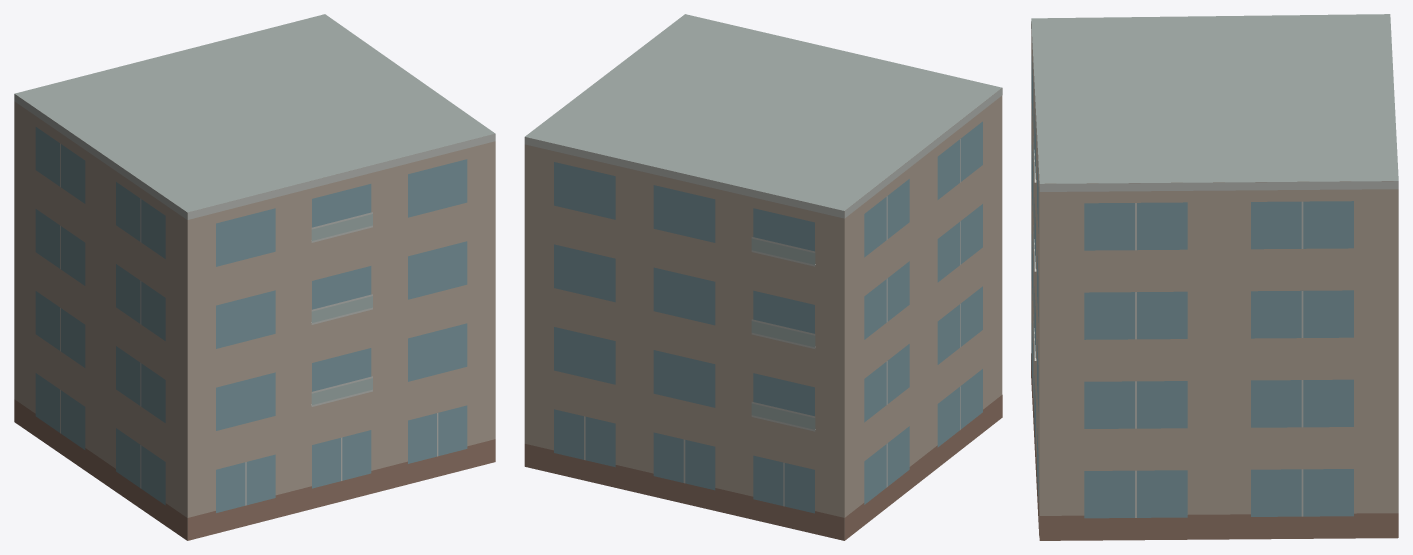
Rendered from survey-upis-32610860.glb.
3 renders of one model, left to right at view 1: azimuth 30°, elevation 25°; view 2: azimuth 150°, elevation 25°; view 3: azimuth 270°, elevation 25°, orthographic. The views are drawn at different scales.
Visible parts, largest first — view 1: survey-upis-32610860.tmp; view 2: survey-upis-32610860.tmp; view 3: survey-upis-32610860.tmp.
Boxes of the visible parts, bbox=[...] form: survey-upis-32610860.tmp: bbox=[14, 14, 495, 540]; survey-upis-32610860.tmp: bbox=[524, 14, 1002, 540]; survey-upis-32610860.tmp: bbox=[1031, 14, 1398, 540].
Size of the model in its own units: 10.82 by 10.6 by 9.9.
